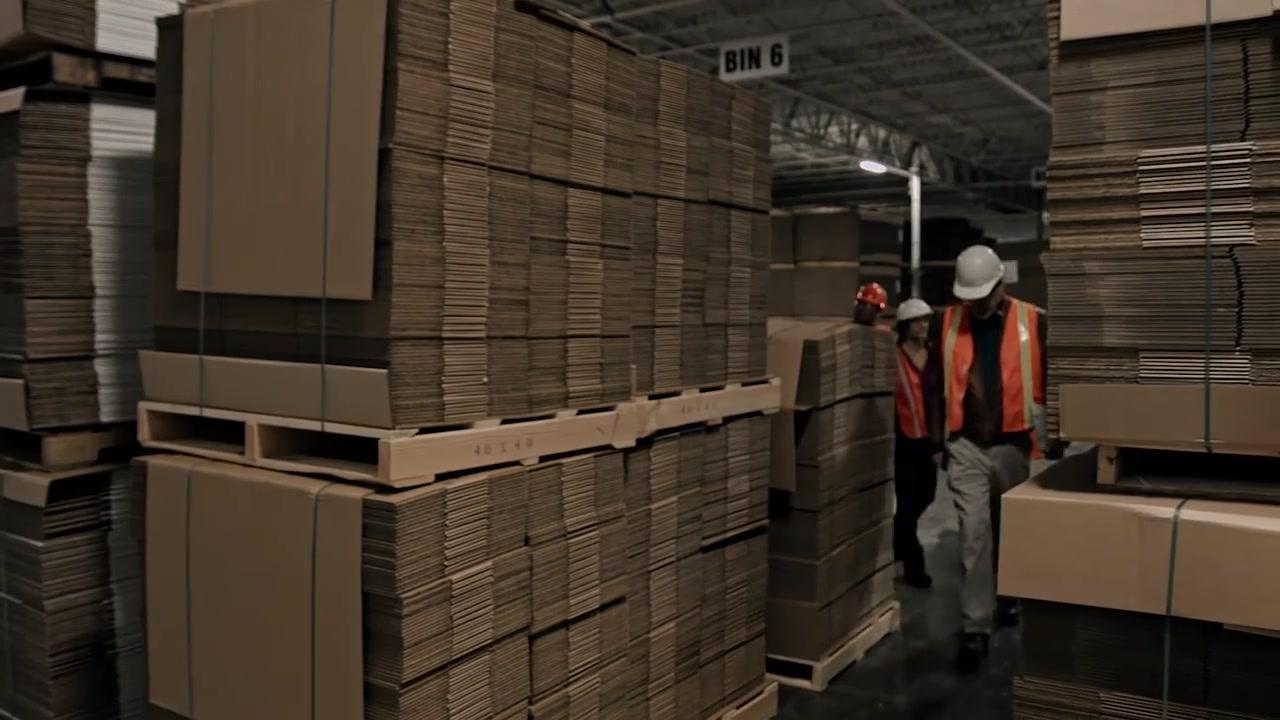vest: (942, 295, 1041, 432), (891, 336, 928, 443)
